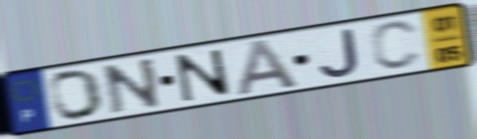A: (234, 36, 302, 99)
C: (368, 19, 425, 73)
J: (316, 26, 363, 80)
N: (100, 55, 164, 117), (172, 47, 236, 105)
O: (47, 67, 106, 122)
